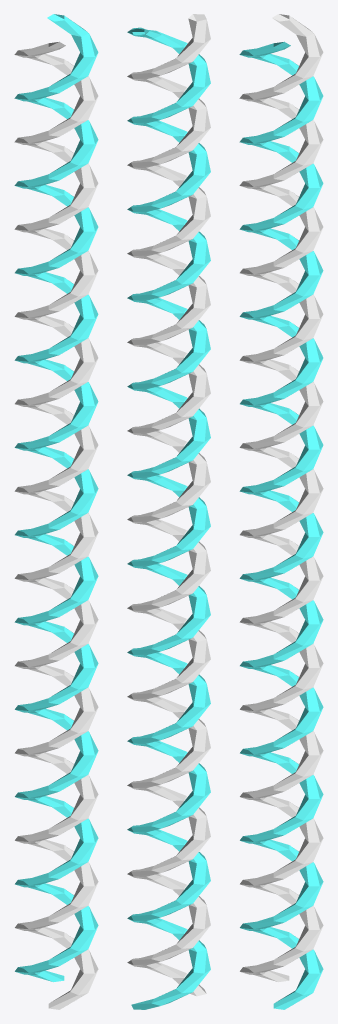
File: exit_gate.glb
The picture shows the model from 3 angles, left to right: view 1: azimuth 90°, elevation 25°; view 2: azimuth 210°, elevation 25°; view 3: azimuth 270°, elevation 25°; orthographic projection.
Visible parts, largest first — view 1: Circle; view 2: Circle; view 3: Circle.
Boxes of the visible parts, <box> form: Circle: <box>14,14,98,1009</box>; Circle: <box>127,14,210,1009</box>; Circle: <box>239,14,323,1009</box>.
Bounding box in the file's own units: 0.1745 × 2.2 × 0.1745.
